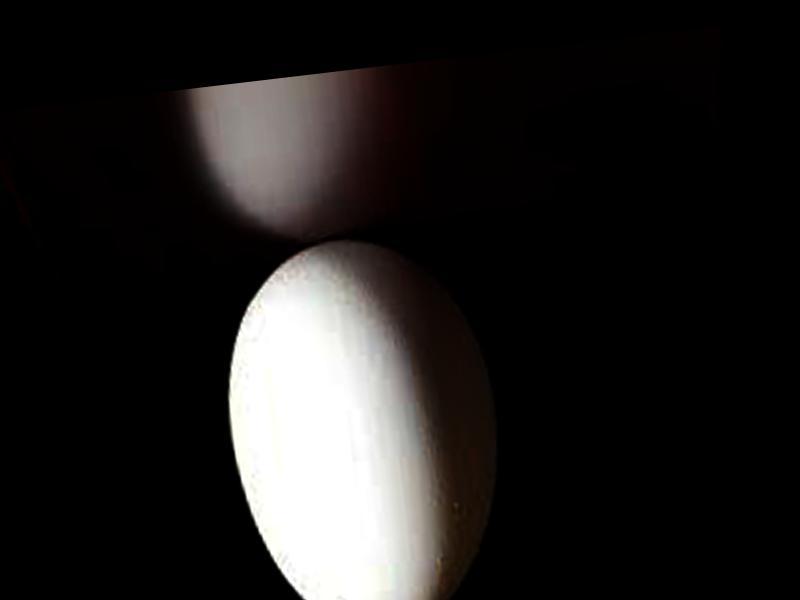Eggs: (210, 223, 517, 600)
